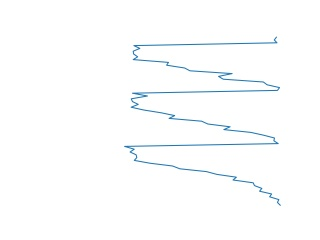distributaryMouthBar: (122, 35, 284, 208)
